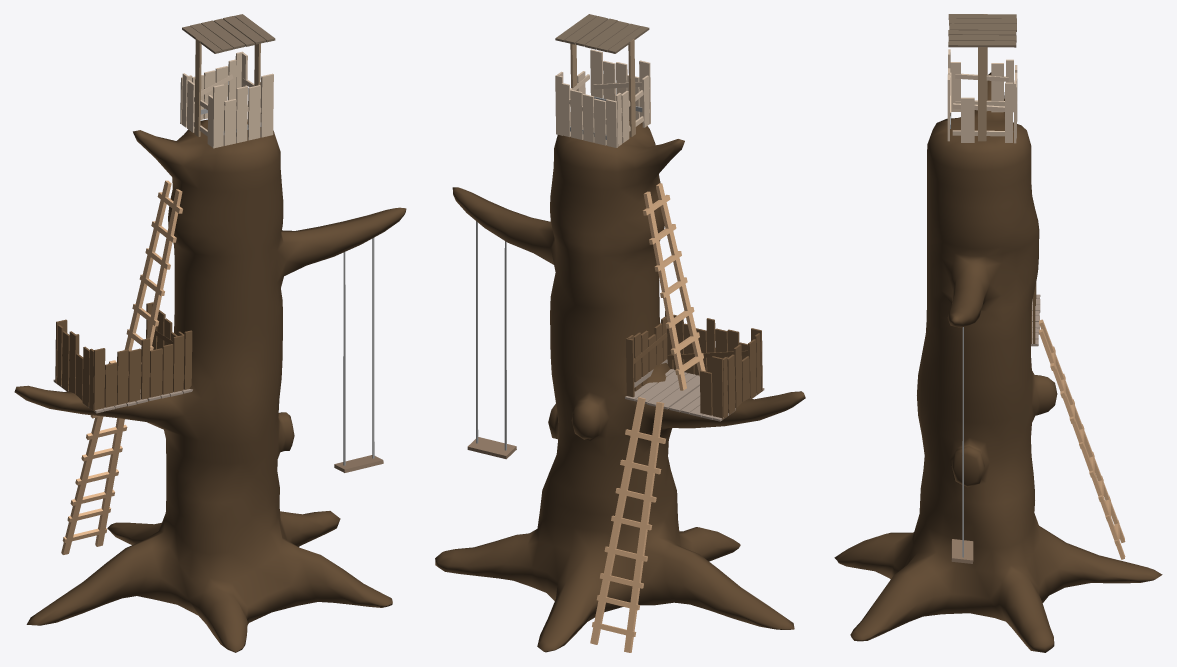
The model's file is TreeHouse.fbx.
The picture shows the model from 3 angles, left to right: view 1: azimuth 30°, elevation 25°; view 2: azimuth 150°, elevation 25°; view 3: azimuth 270°, elevation 25°; orthographic projection. The views are drawn at different scales.
Visible parts, largest first — view 1: polySurface20, polySurface115, polySurface97, polySurface2, polySurface113, polySurface99, pCube3, polySurface83; view 2: polySurface20, polySurface115, polySurface97, polySurface2, polySurface113, polySurface60, polySurface99, pCube3, polySurface83, polySurface111; view 3: polySurface20, polySurface97, polySurface2, polySurface99, polySurface83, polySurface111.
Part boxes in pixels (<box>): polySurface20: <box>14,119,406,652</box>; polySurface115: <box>55,302,192,411</box>; polySurface97: <box>180,51,273,148</box>; polySurface2: <box>61,360,127,554</box>; polySurface113: <box>124,180,182,370</box>; polySurface99: <box>182,14,275,53</box>; pCube3: <box>343,238,374,465</box>; polySurface83: <box>194,38,260,136</box>; polySurface20: <box>435,119,805,652</box>; polySurface115: <box>626,311,762,419</box>; polySurface97: <box>555,49,650,147</box>; polySurface2: <box>590,397,665,652</box>; polySurface113: <box>643,183,705,390</box>; polySurface60: <box>625,359,764,421</box>; polySurface99: <box>555,14,649,53</box>; pCube3: <box>476,221,506,450</box>; polySurface83: <box>570,38,635,136</box>; polySurface111: <box>467,437,516,459</box>; polySurface20: <box>834,72,1162,652</box>; polySurface97: <box>947,49,1017,143</box>; polySurface2: <box>1039,319,1125,559</box>; polySurface99: <box>948,14,1016,47</box>; polySurface83: <box>978,14,987,141</box>; polySurface111: <box>951,539,973,563</box>.
Bounding box in the file's own units: 16.47 × 23.39 × 12.31.
